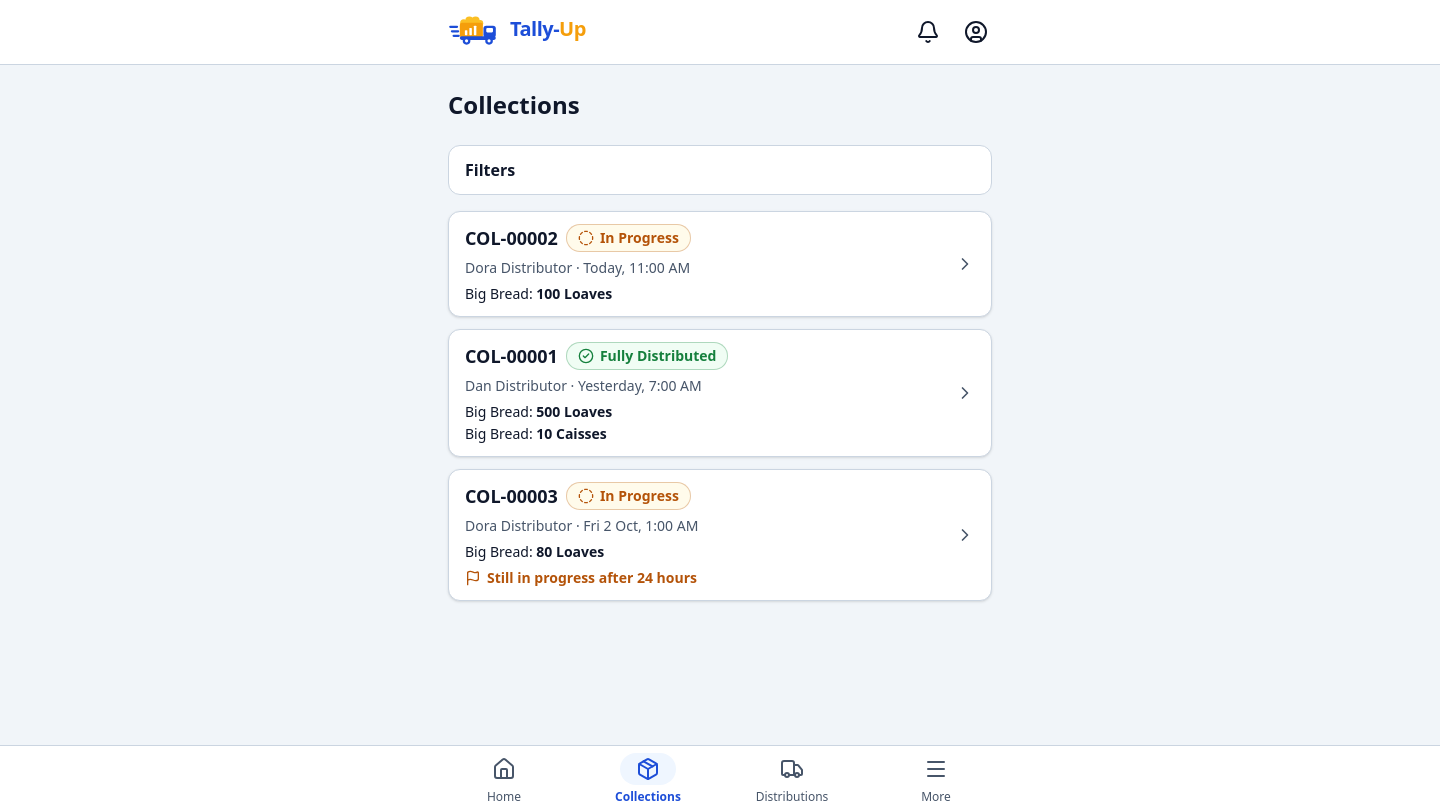
Test case: Collections list › Q-59g: filters by status, and the filter lives in the address
expect the link "COL-00001" is shown: met, box [448, 329, 992, 457]
Click the heading "Filters".
click(490, 170)  # box [465, 159, 515, 181]
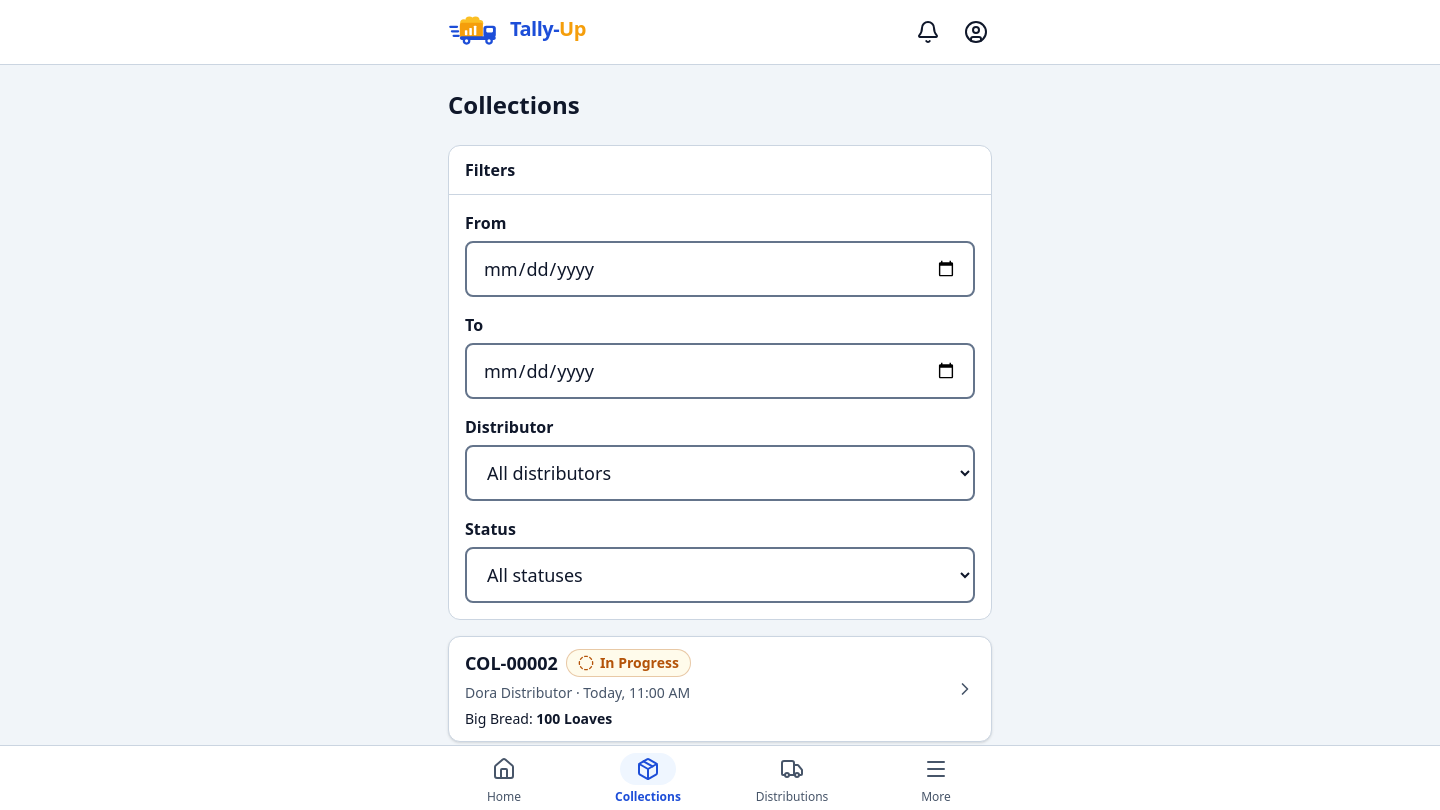
Select "In Progress" in the dropdown labelled "Status" at (720, 575), box [465, 547, 975, 603]
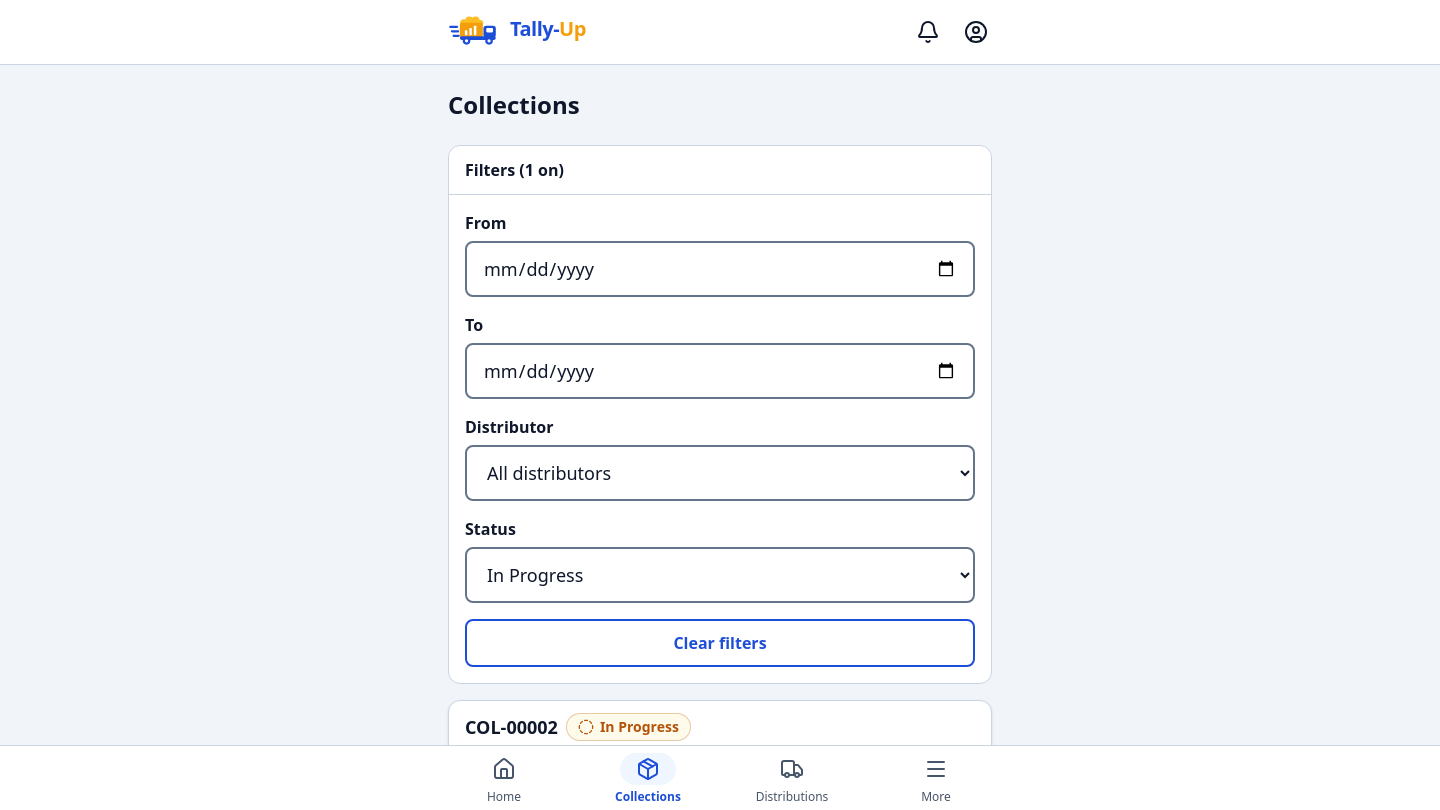
expect the link "COL-00001" is not shown: met
expect the heading "Filters (1 on)" is shown: met, box [465, 159, 564, 181]
